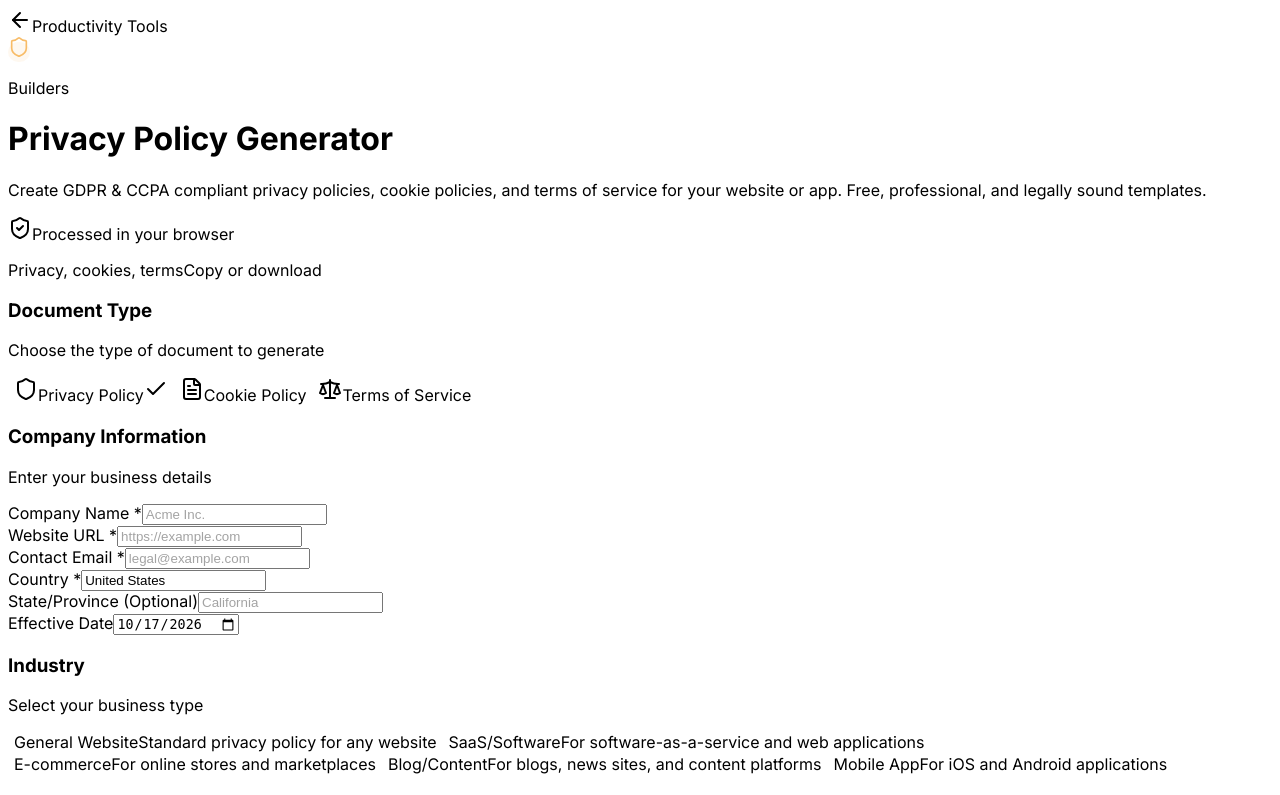
Test: PrivacyPolicyGeneratorPage › Document Type Selection › should show industry selection only for Privacy Policy
Expected: the heading "Industry" is shown, [8, 654, 85, 677]
Click the button "Cookie Policy" at [243, 391], box [174, 376, 312, 406]
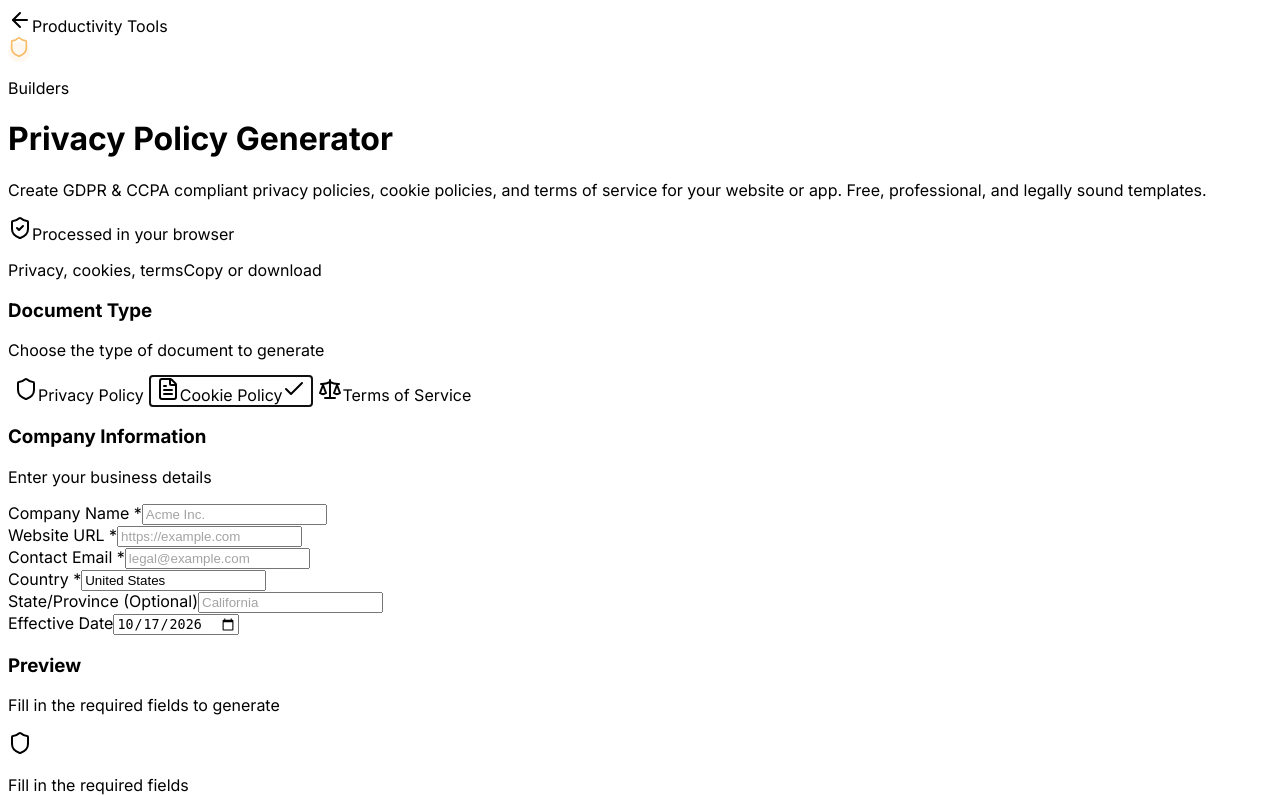
Now the heading "Industry" is gone
